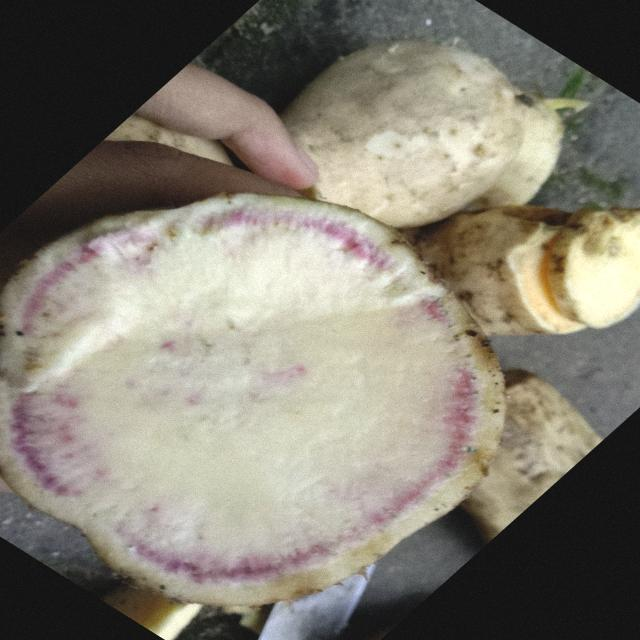Healthy Sweet Potato: (2, 194, 503, 606)
